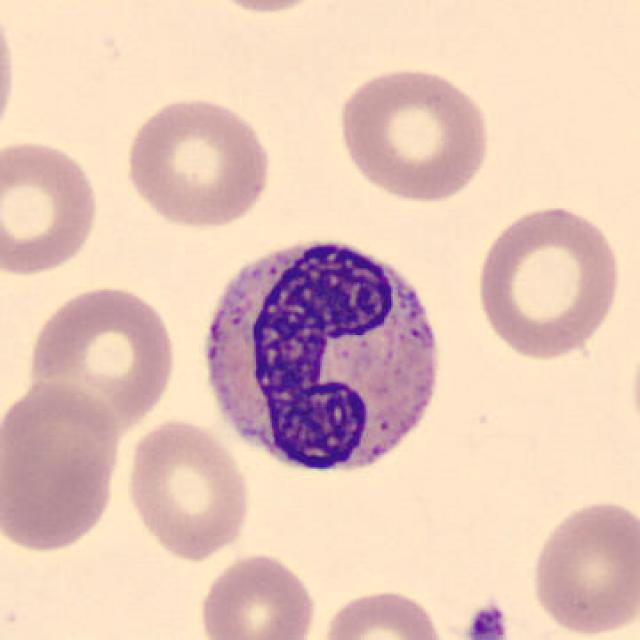Neutrophil: (191, 222, 454, 490)
Platelets: (462, 601, 510, 640)
RBC: (471, 199, 626, 363), (23, 280, 180, 434), (332, 62, 494, 205), (0, 377, 124, 557), (121, 92, 275, 231), (121, 416, 254, 563), (526, 494, 638, 638), (0, 136, 103, 280), (194, 550, 320, 640), (315, 585, 448, 640), (0, 0, 21, 153), (190, 0, 340, 16)
